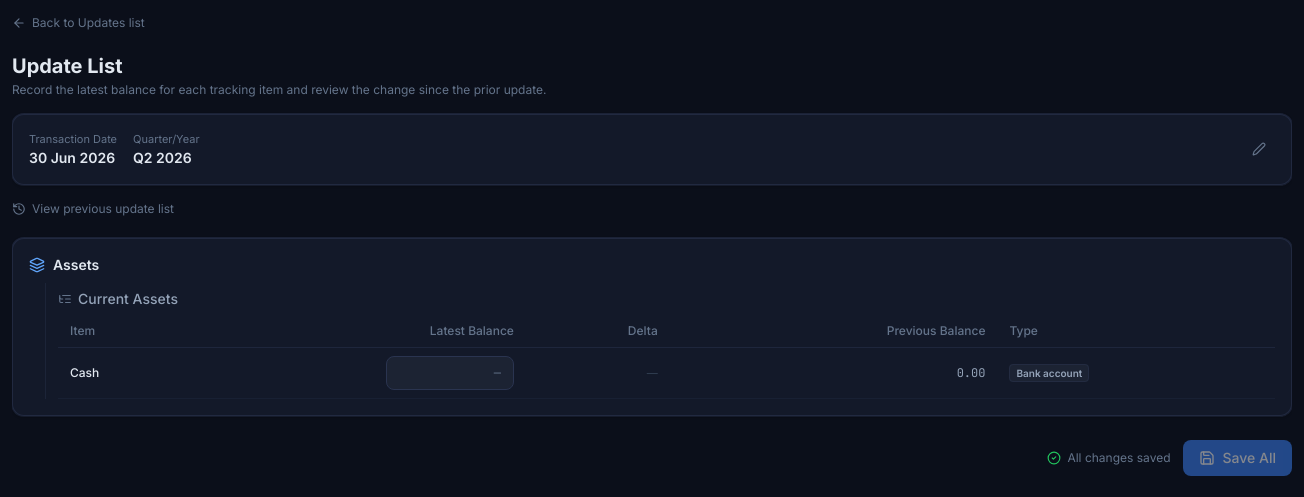
Test: UpdateTrackingListDetailPage — client-side delta preview on blur › handles a previousBalance of 0: computes deltaAmount but never shows a percent (no Infinity/NaN)
The image size is (1304, 497).
Type "250" into the field named "Latest balance for Cash" at coordinates (450, 372), box [386,356,514,390]
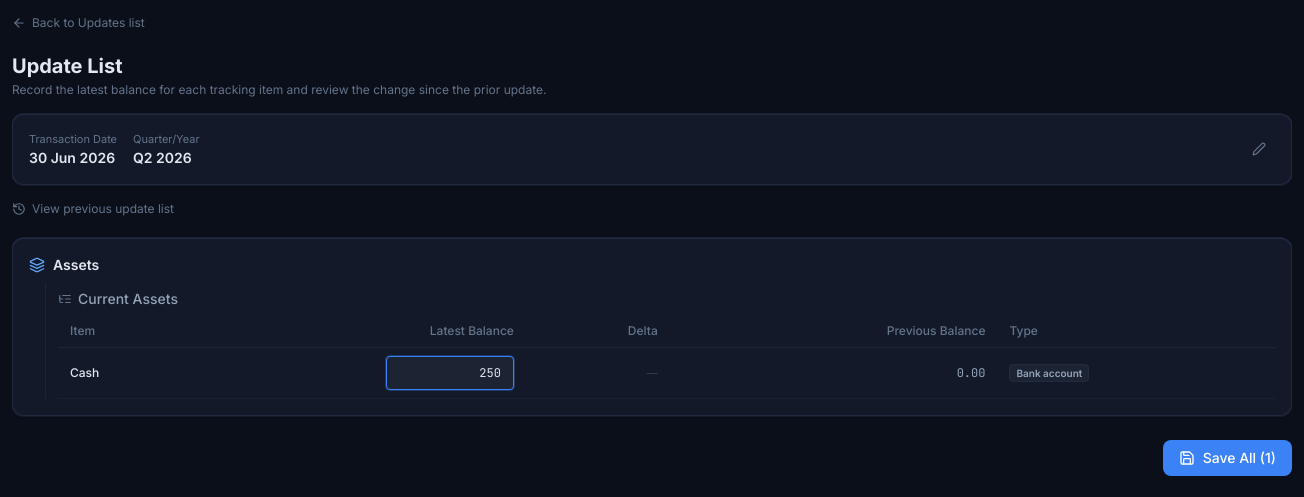
Press Tab
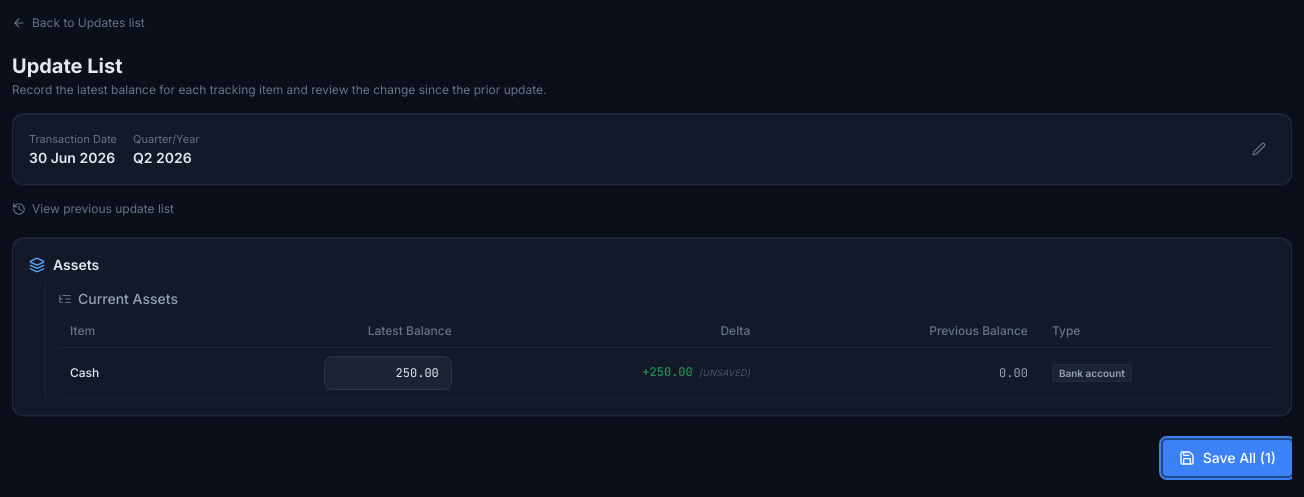
Check: the text "+250.00" is shown, box [642,364,693,380]
